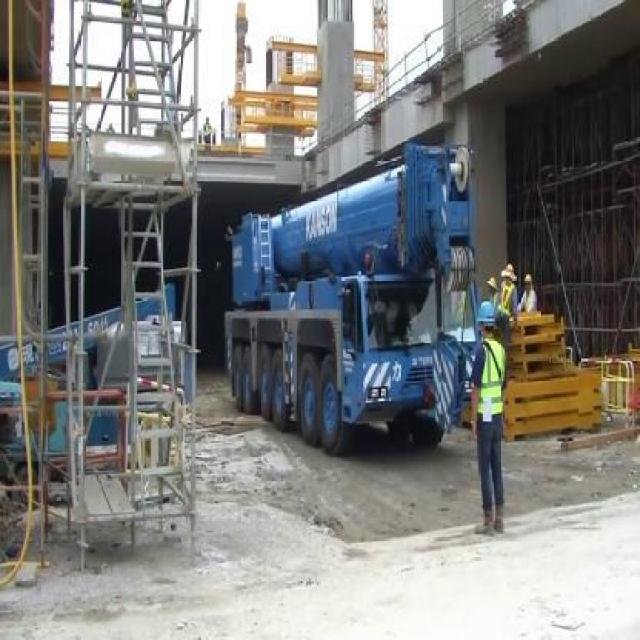Mobile Crane: (224, 148, 471, 452)
